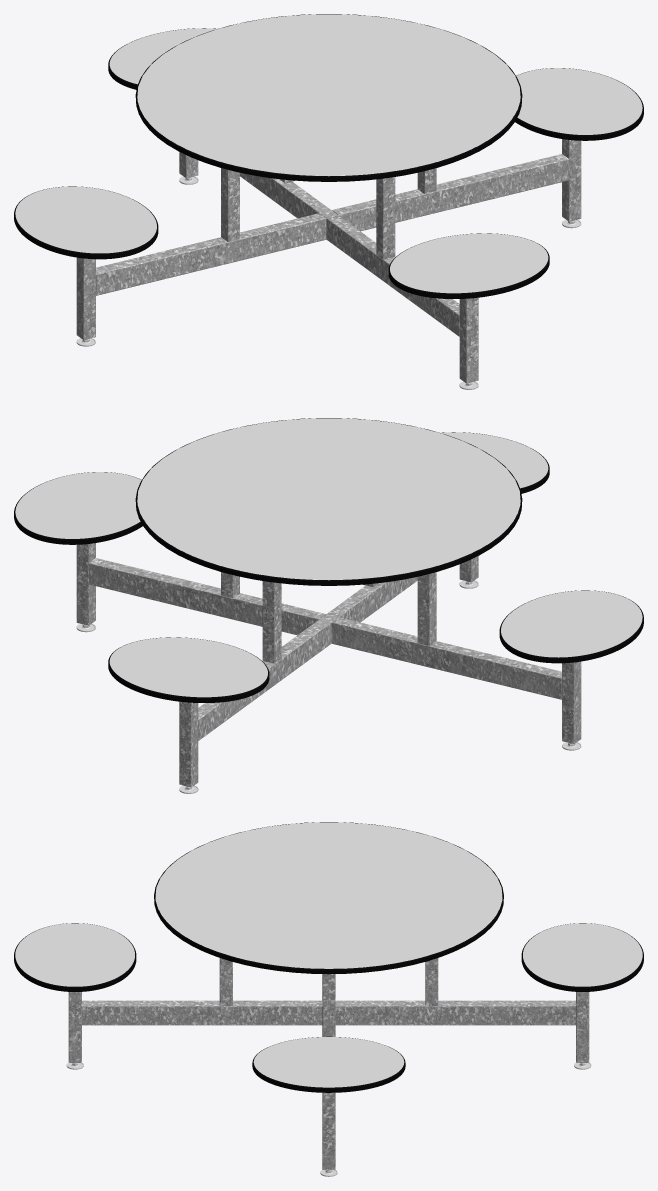
Rendered from kreis-team-small-bambini.glb.
3 renders of one model, top to bottom at view 1: azimuth 30°, elevation 25°; view 2: azimuth 150°, elevation 25°; view 3: azimuth 270°, elevation 25°, orthographic. The views are drawn at different scales.
Visible parts, largest first — view 1: Tischplatte, Gestell, Sitzplatte, HPL Kante, Stellgleiter; view 2: Tischplatte, Gestell, Sitzplatte, HPL Kante, Stellgleiter; view 3: Tischplatte, Sitzplatte, Gestell, HPL Kante.
Part boxes in pixels (x1=…): Tischplatte: x1=137, y1=14, x2=520, y2=175; Gestell: x1=76, y1=139, x2=581, y2=383; Sitzplatte: x1=15, y1=28, x2=642, y2=293; HPL Kante: x1=14, y1=14, x2=643, y2=298; Stellgleiter: x1=76, y1=176, x2=581, y2=389; Tischplatte: x1=137, y1=418, x2=520, y2=579; Gestell: x1=76, y1=543, x2=581, y2=787; Sitzplatte: x1=15, y1=432, x2=642, y2=697; HPL Kante: x1=14, y1=418, x2=643, y2=702; Stellgleiter: x1=76, y1=580, x2=581, y2=793; Tischplatte: x1=155, y1=822, x2=502, y2=968; Sitzplatte: x1=15, y1=923, x2=642, y2=1087; Gestell: x1=68, y1=955, x2=589, y2=1169; HPL Kante: x1=14, y1=822, x2=643, y2=1092.
Size of the model in its own units: 1.44 by 0.43 by 1.44.
3 materials, 1 textured.
